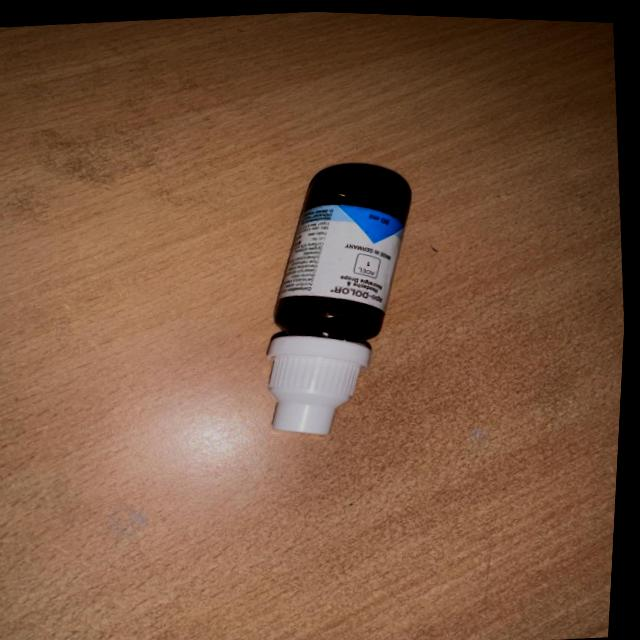medicine: (239, 164, 438, 449)
